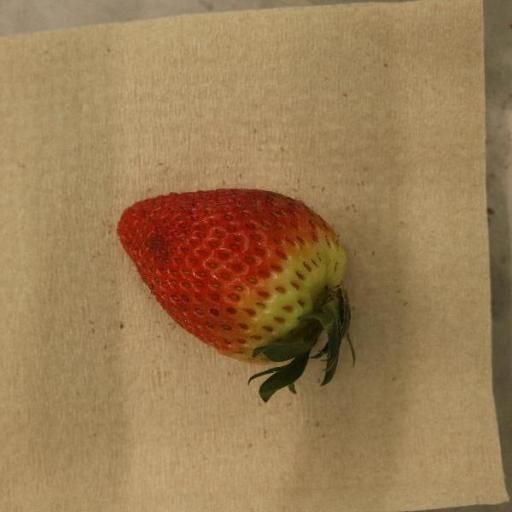Strawberry: (118, 189, 352, 403)
